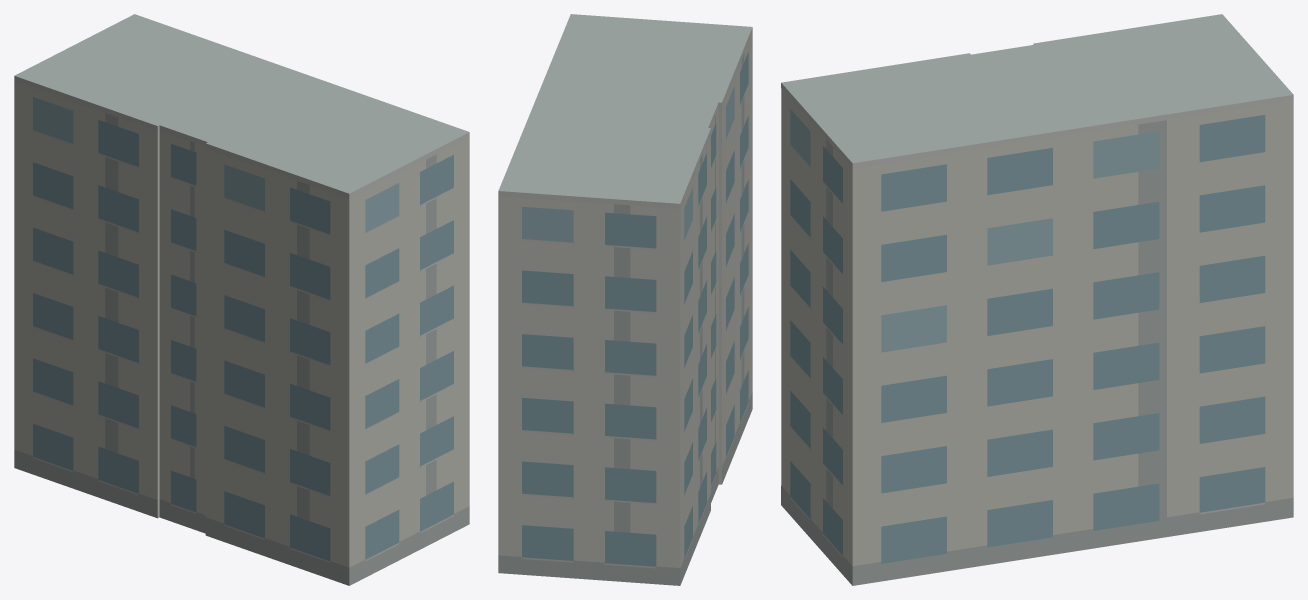
Rendered from survey-upis-32866042.glb.
3 views of the same model, side by side, from view 1: azimuth 30°, elevation 25°; view 2: azimuth 150°, elevation 25°; view 3: azimuth 270°, elevation 25° (orthographic). The views are drawn at different scales.
Visible parts, largest first — view 1: survey-upis-32866042.tmp; view 2: survey-upis-32866042.tmp; view 3: survey-upis-32866042.tmp.
Part boxes in pixels (x1,y1,x2,y2): survey-upis-32866042.tmp: (14,14,469,585); survey-upis-32866042.tmp: (498,14,752,585); survey-upis-32866042.tmp: (781,14,1293,585).
Bounding box in the file's own units: 13.87 × 18.3 × 20.13.
